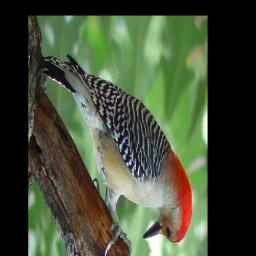Woodpecker: (38, 47, 195, 256)
